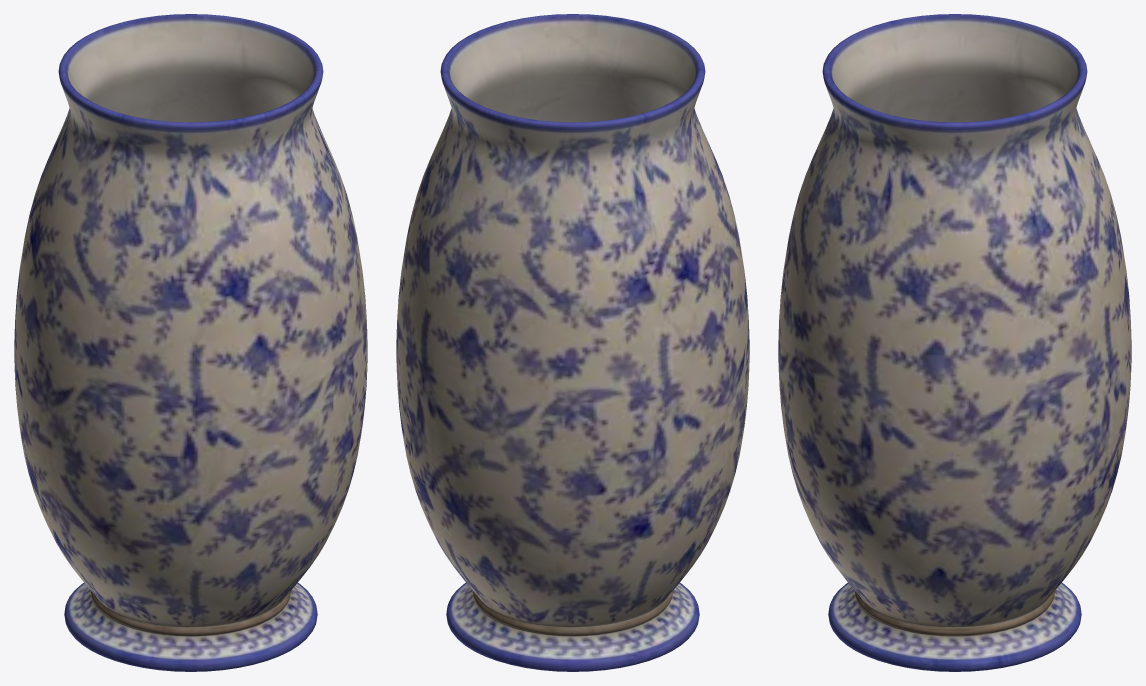
File: antique_ceramic_vase_01.glb
3 renders of one model, left to right at view 1: azimuth 30°, elevation 25°; view 2: azimuth 150°, elevation 25°; view 3: azimuth 270°, elevation 25°, orthographic.
Visible parts, largest first — view 1: antique_ceramic_vase_01; view 2: antique_ceramic_vase_01; view 3: antique_ceramic_vase_01.
Part boxes in pixels (x1,y1,x2,y2): antique_ceramic_vase_01: [14, 14, 367, 671]; antique_ceramic_vase_01: [396, 14, 749, 671]; antique_ceramic_vase_01: [778, 14, 1131, 671].
Bounding box in the file's own units: 0.255 × 0.4396 × 0.255.
Materials: 1 (1 with a texture image).
